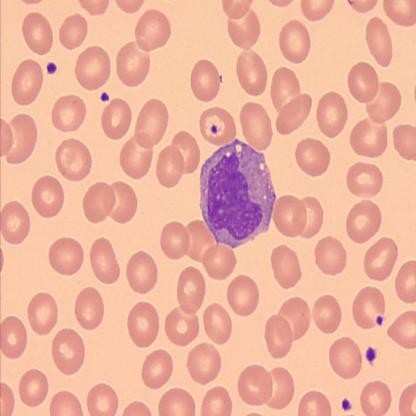Monocyte: (198, 135, 278, 250)
